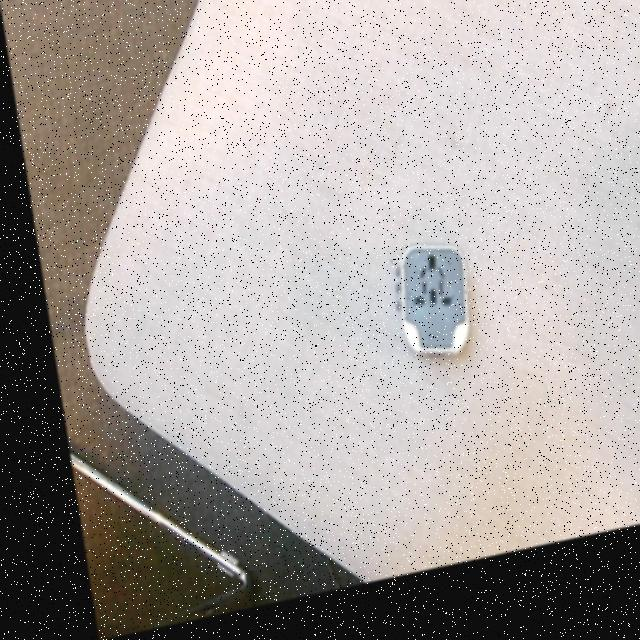adapter: (375, 251, 465, 380)
